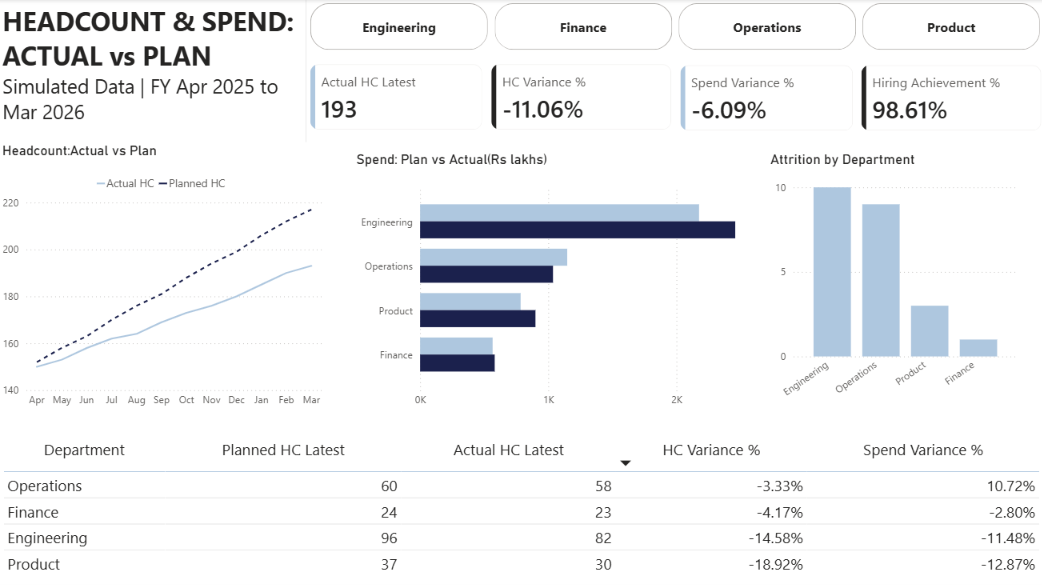

The page's visual inventory and layout, read from the dashboard file:
{"tool":"powerbi","page":{"name":"Page 1","canvas":[1280,720],"ordinal":0},"visuals":[{"type":"textbox","box":[0,0,377.1,185.7],"z":0},{"type":"advancedSlicerVisual","fields":{"Values":["Data.Department"]},"box":[377.1,0,902.9,67.1],"z":1000},{"type":"cardVisual","fields":{"Data":["Data.Actual HC Latest"]},"box":[377.1,74,220,90],"z":2000},{"type":"cardVisual","fields":{"Data":["Data.HC Variance %"]},"box":[598.6,74,230,90],"z":3000},{"type":"cardVisual","fields":{"Data":["Data.Spend Var %"]},"box":[828.6,75.4,221.4,90],"z":4000},{"type":"cardVisual","fields":{"Data":["Data.Hiring Achievement %"]},"box":[1050,75.4,230,90],"z":5000},{"type":"lineChart","title":"Headcount:Actual vs Plan","fields":{"Y":["Data.Actual HC","Data.Planned HC"],"Category":["Data.Month"]},"box":[0,174.7,401.1,333],"z":6000},{"type":"clusteredBarChart","title":"Spend: Plan vs Actual(Rs lakhs) ","fields":{"Category":["Data.Department"],"Y":["Sum(Data.Actual Spend)","Sum(Data.Planned Spend)"]},"box":[433,185.7,486.8,322],"z":6001},{"type":"columnChart","title":"Attrition by Department","fields":{"Category":["Data.Department"],"Y":["Sum(Data.Attrition)"]},"box":[939.6,185.7,313.2,322],"z":6002},{"type":"tableEx","fields":{"Values":["Data.Department","Data.Planned HC Latest","Data.Actual HC Latest","Data.HC Variance %","Data.Spend Variance %"]},"box":[0,529.7,1280.2,190.1],"z":6003}]}

Visuals, with their boxes in screenshot pixels (x1, y1, x2, y2), scaled from the page's 1280x720 canvas onto the 1042x585 screenshot:
textbox: 0, 0, 307, 151
advancedSlicerVisual - Data.Department: 307, 0, 1041, 55
cardVisual - Data.Actual HC Latest: 307, 60, 486, 133
cardVisual - Data.HC Variance %: 487, 60, 675, 133
cardVisual - Data.Spend Var %: 675, 61, 855, 134
cardVisual - Data.Hiring Achievement %: 855, 61, 1041, 134
"Headcount:Actual vs Plan" lineChart: 0, 142, 327, 413
"Spend: Plan vs Actual(Rs lakhs) " clusteredBarChart: 352, 151, 749, 413
"Attrition by Department" columnChart: 765, 151, 1020, 413
tableEx - Data.Department x Data.Planned HC Latest: 0, 430, 1041, 584
